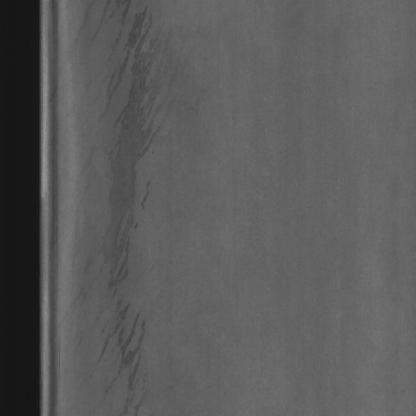water_spot: (86, 1, 167, 410)
